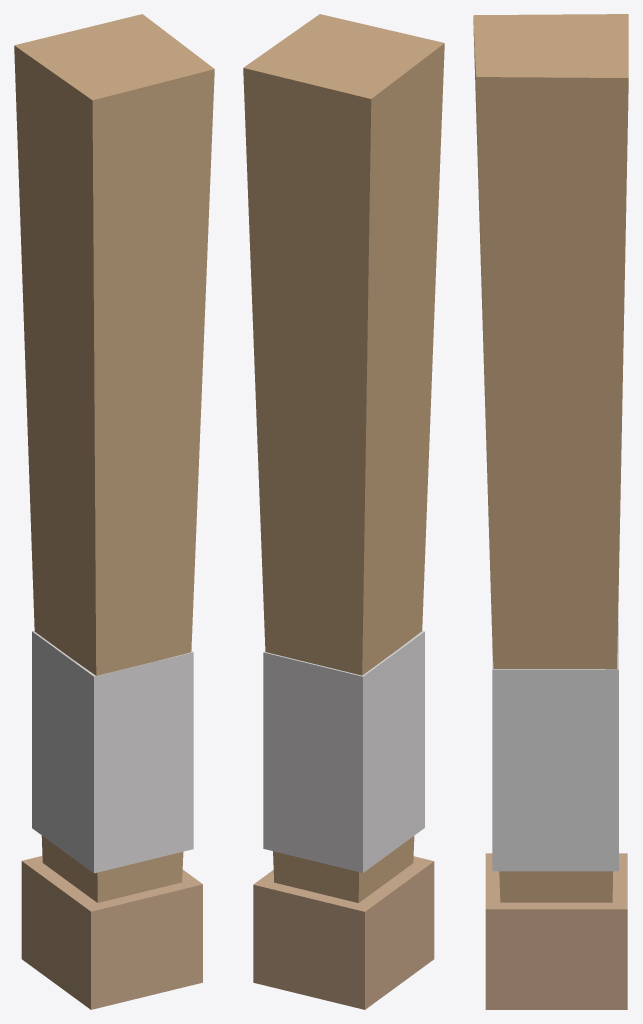
The model's file is test3dFile.fbx.
The picture shows the model from 3 angles, left to right: view 1: azimuth 30°, elevation 25°; view 2: azimuth 150°, elevation 25°; view 3: azimuth 270°, elevation 25°; orthographic projection. The views are drawn at different scales.
Visible parts, largest first — view 1: Cube.001, Cube.002, Cube; view 2: Cube.001, Cube.002, Cube; view 3: Cube.001, Cube.002, Cube.
Boxes of the visible parts, x1,y1,x2,y2 form: Cube.001: [14, 14, 214, 902]; Cube.002: [32, 630, 193, 873]; Cube: [21, 856, 202, 1009]; Cube.001: [243, 14, 444, 902]; Cube.002: [263, 631, 424, 872]; Cube: [253, 856, 434, 1009]; Cube.001: [473, 14, 628, 902]; Cube.002: [492, 620, 618, 871]; Cube: [485, 853, 627, 1009].
Size of the model in its own units: 143 by 971 by 146.
